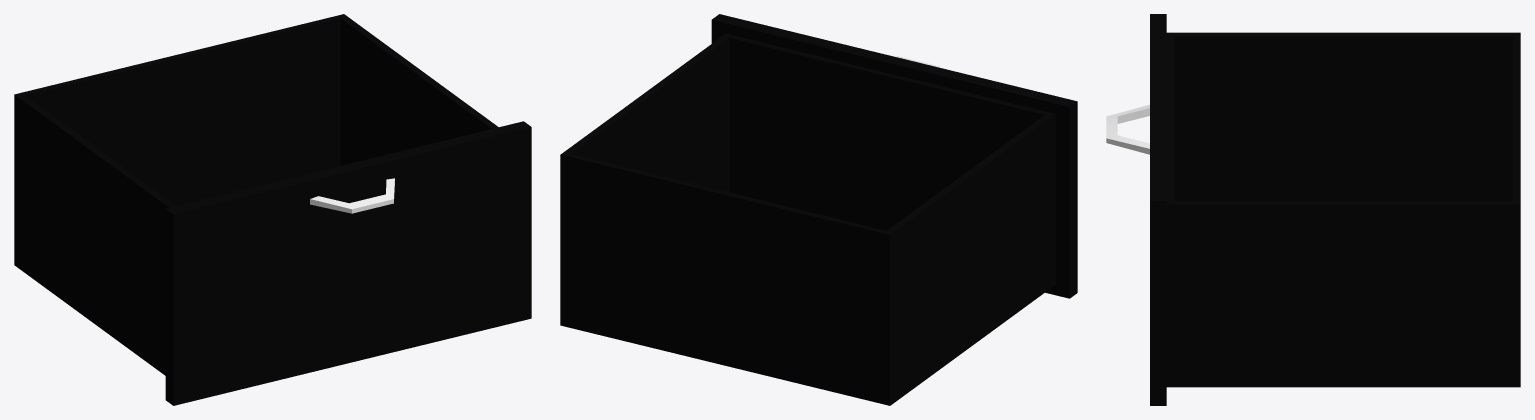
Rendered from Drawer_b7ce5c6f.obj.
The picture shows the model from 3 angles, left to right: view 1: azimuth 30°, elevation 25°; view 2: azimuth 150°, elevation 25°; view 3: azimuth 270°, elevation 25°; orthographic projection. The views are drawn at different scales.
Parts seen in each view (by area): view 1: FP423:Door1_01_21aadb32; view 2: FP423:Door1_01_21aadb32; view 3: FP423:Door1_01_21aadb32.
Part boxes in pixels (bbox=[...]): FP423:Door1_01_21aadb32: bbox=[14, 14, 531, 405]; FP423:Door1_01_21aadb32: bbox=[560, 14, 1077, 405]; FP423:Door1_01_21aadb32: bbox=[1106, 14, 1520, 405].
Bounding box in the file's own units: 0.5853 × 0.2994 × 0.5484.
